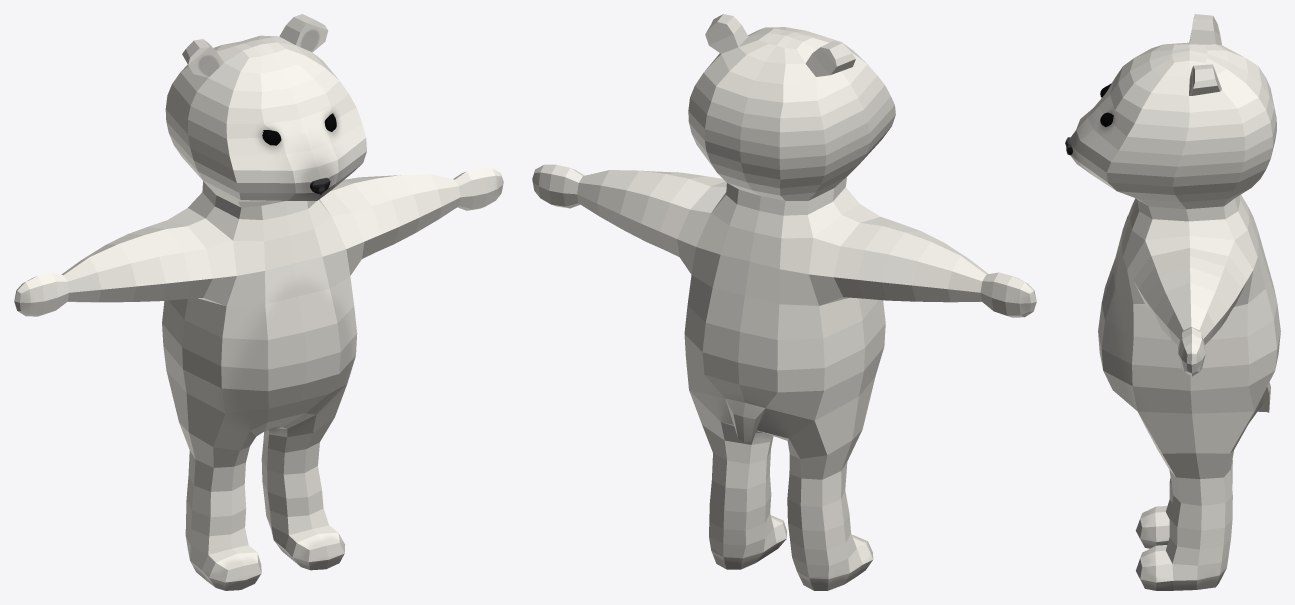
Rendered from ennemi.fbx.
The picture shows the model from 3 angles, left to right: view 1: azimuth 30°, elevation 25°; view 2: azimuth 150°, elevation 25°; view 3: azimuth 270°, elevation 25°; orthographic projection. The views are drawn at different scales.
Visible parts, largest first — view 1: corp; view 2: corp; view 3: corp.
Part boxes in pixels (left/top/right/bottom): corp: left=14, top=14, right=503, bottom=590; corp: left=532, top=14, right=1036, bottom=590; corp: left=1069, top=14, right=1280, bottom=590.
Size of the model in its own units: 638 by 658 by 246.
3 materials, 3 textured.
